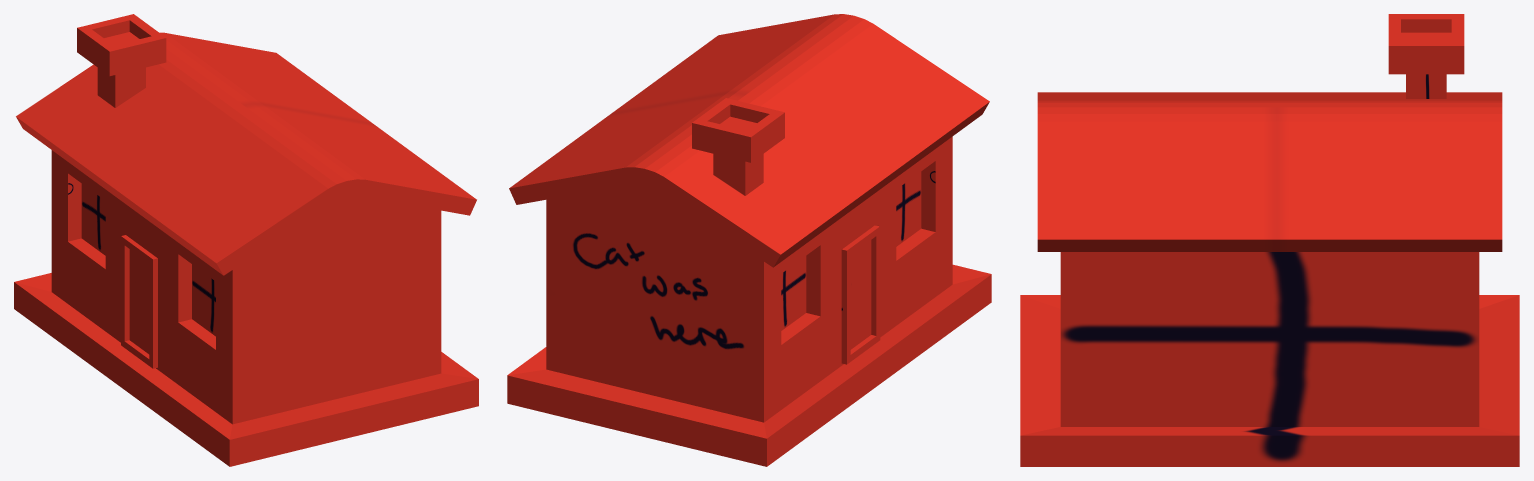
File: house.obj
3 views of the same model, side by side, from view 1: azimuth 30°, elevation 25°; view 2: azimuth 150°, elevation 25°; view 3: azimuth 270°, elevation 25° (orthographic). The views are drawn at different scales.
Parts seen in each view (by area): view 1: Cube, roof, Chimney; view 2: Cube, roof, Chimney; view 3: Cube, roof, Chimney.
Part boxes in pixels (left/top/right/bottom): Cube: left=14, top=150, right=478, bottom=466; roof: left=16, top=32, right=476, bottom=275; Chimney: left=77, top=14, right=166, bottom=107; Cube: left=507, top=136, right=991, bottom=466; roof: left=509, top=14, right=989, bottom=267; Chimney: left=692, top=98, right=784, bottom=195; Cube: left=1020, top=252, right=1519, bottom=466; roof: left=1037, top=92, right=1502, bottom=251; Chimney: left=1388, top=14, right=1464, bottom=98.
Size of the model in its own units: 4.99 by 5.29 by 7.15.
1 material, 1 textured.
